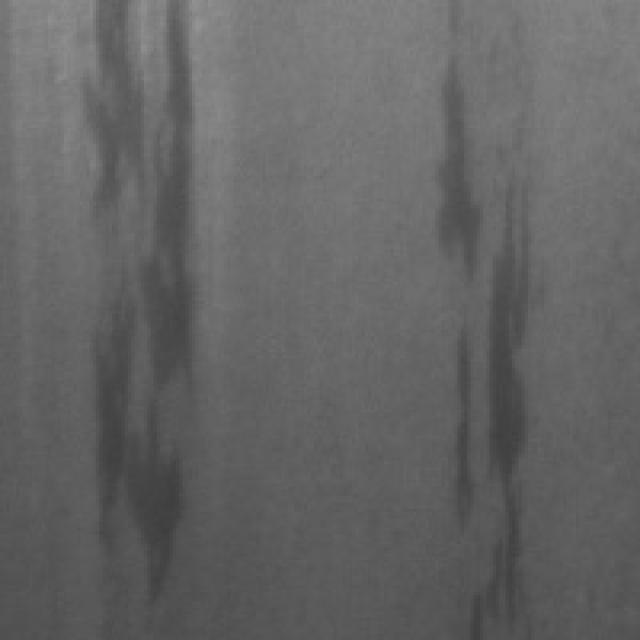inclusion: (80, 0, 214, 624), (438, 0, 560, 605), (426, 38, 492, 292), (464, 474, 541, 634)
